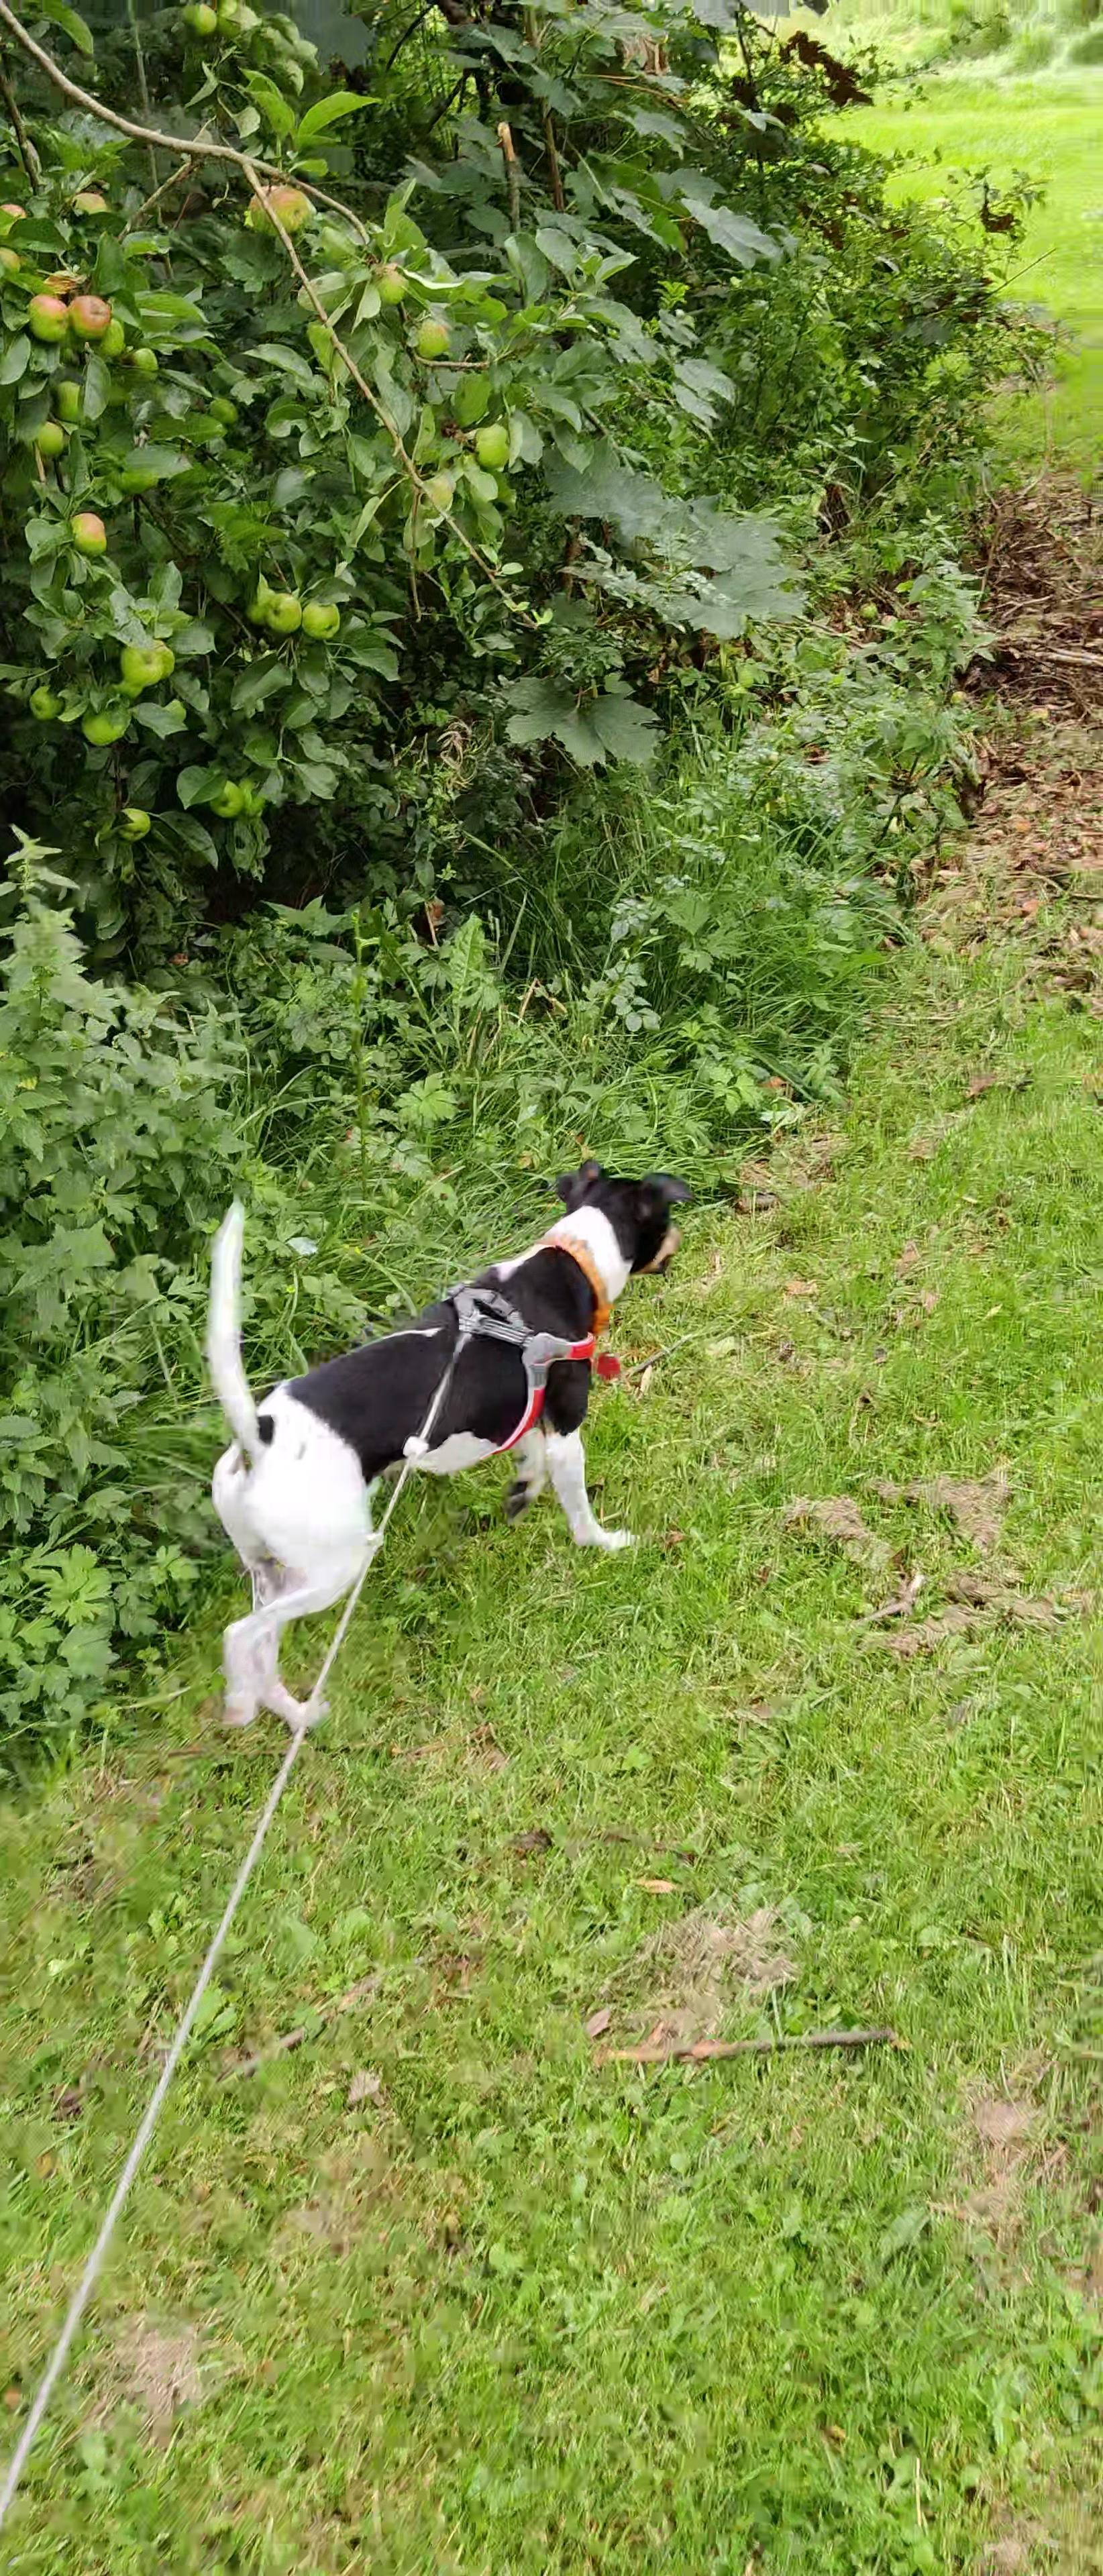Dog: (187, 1153, 704, 1735)
